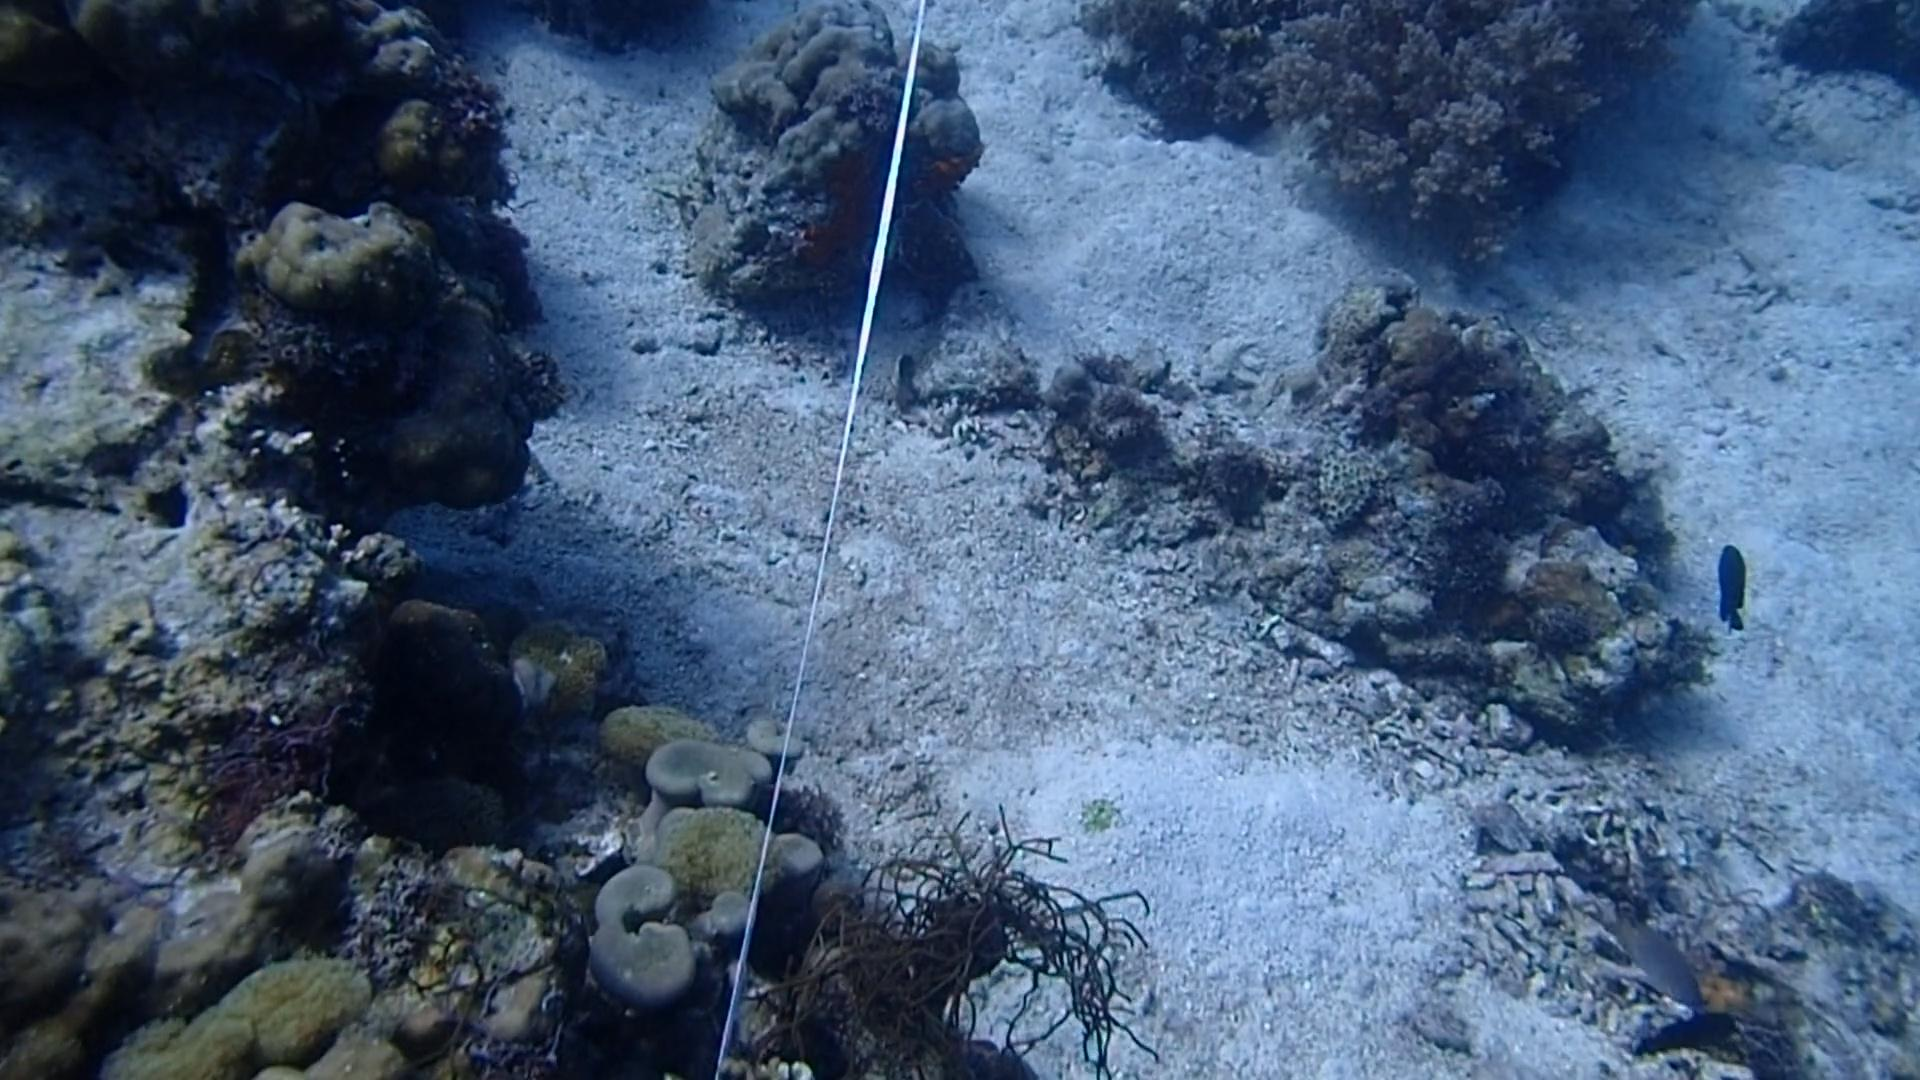Dark Fish: (1627, 1006, 1746, 1063), (1702, 538, 1768, 637)
Light Fish: (1586, 902, 1717, 1014)
